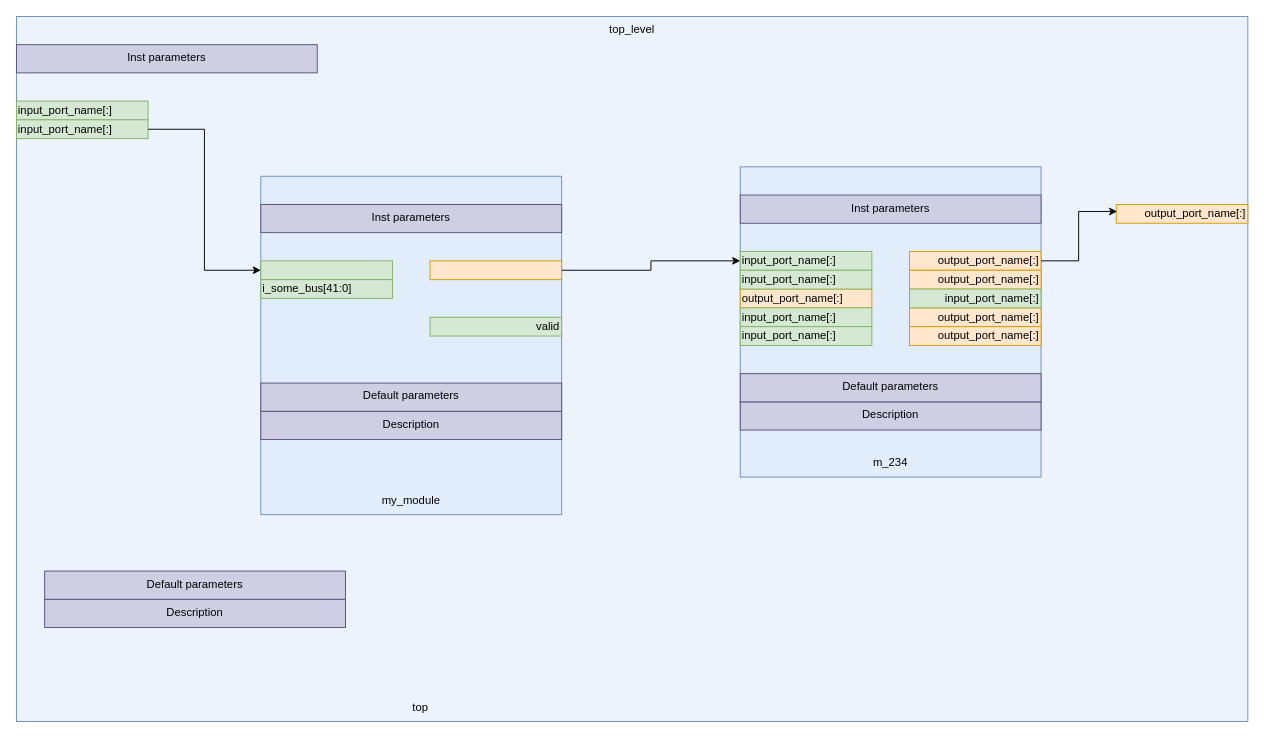
Some shapes in this 1264 by 738 pixel diagram are drawn without their labels. Here are the shapes that lost their labels. From the top down, the box of each, then its label:
(260, 260, 392, 280): isomeport
(429, 260, 562, 280): o_out[1:5]
(739, 166, 1041, 477): inst_0
(260, 175, 562, 515): instance_0
